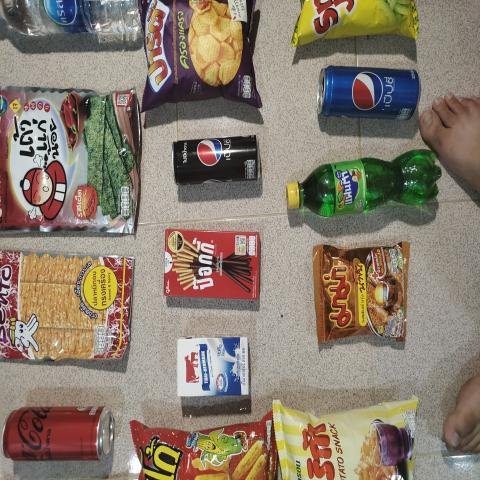bento_red: (0, 258, 131, 351)
coke_red: (0, 400, 117, 465)
fanta_green: (291, 147, 445, 217)
mama: (318, 243, 410, 354)
party_purple: (145, 4, 255, 98)
pepsi_black: (164, 138, 267, 191)
pokki: (166, 230, 260, 305)
taokaenoi: (0, 87, 133, 232)
thai_denmark: (175, 337, 252, 407)
